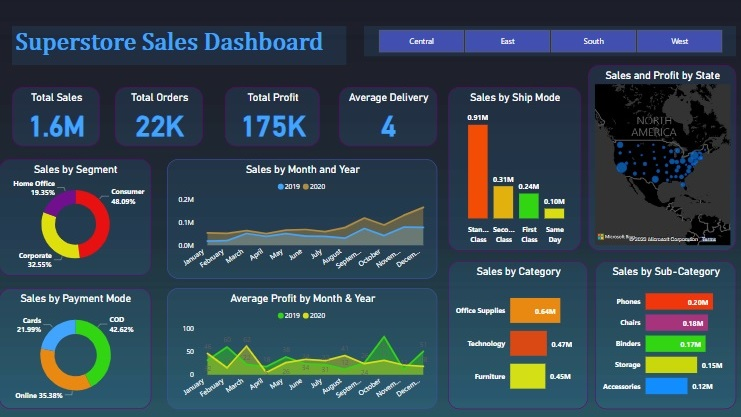

The dashboard page shown, as its layout file describes it:
{"tool":"powerbi","page":{"name":"Page 1","canvas":[1280,720],"ordinal":0},"visuals":[{"type":"areaChart","title":"Sales by Month and Year","fields":{"Category":["Sheet1.Order Date.Variation.Date Hierarchy.Month"],"Y":["Sum(Sheet1.Sales)"],"Series":["Sheet1.Order Date.Variation.Date Hierarchy.Year"]},"box":[275.8,252.3,489.5,213.6],"z":0},{"type":"areaChart","title":"Average Profit  by Month and Year","fields":{"Category":["Sheet1.Order Date.Variation.Date Hierarchy.Month"],"Series":["Sheet1.Order Date.Variation.Date Hierarchy.Year"],"Y":["Avg(Sheet1.Profit)"]},"box":[275.8,494.5,489.5,210.2],"z":1000},{"type":"card","title":"Average Delivery","fields":{"Values":["Avg(Sheet1.Avg_Delivery)"]},"box":[571.9,111,180,100.9],"z":2000},{"type":"clusteredBarChart","title":"Sales by Category","fields":{"Y":["Sum(Sheet1.Sales)"],"Category":["Sheet1.Category"]},"box":[777.1,465.9,238.8,238.8],"z":3000},{"type":"clusteredBarChart","title":"Sales by Sub-Category","fields":{"Y":["Sum(Sheet1.Sales)"],"Category":["Sheet1.Sub-Category"]},"box":[1027.7,465.9,243.9,233.8],"z":4000},{"type":"clusteredColumnChart","title":"Sales by Ship Mode","fields":{"Category":["Sheet1.Ship Mode"],"Y":["Sum(Sheet1.Sales)"]},"box":[777.1,111,222,334.7],"z":5000},{"type":"map","title":"Sales and Profit by State","fields":{"Category":["Sheet1.State"],"Size":["Sum(Sheet1.Sales)"]},"box":[1015.9,89.1,255.7,368.4],"z":6000},{"type":"donutChart","title":"Sales by Segment","fields":{"Category":["Sheet1.Segment"],"Y":["Sum(Sheet1.Sales)"]},"box":[0,252.3,264.1,213.6],"z":7000},{"type":"donutChart","title":"Sales by Payment Mode","fields":{"Category":["Sheet1.Payment Mode"],"Y":["Sum(Sheet1.Sales)"]},"box":[0,494.5,264.1,210.2],"z":8000},{"type":"card","title":"Total Profit","fields":{"Values":["Sum(Sheet1.Profit)"]},"box":[378.4,111,176.6,100.9],"z":9000},{"type":"card","title":"Total Orders","fields":{"Values":["Sum(Sheet1.Quantity)"]},"box":[191.7,111,166.5,100.9],"z":10000},{"type":"card","title":"Total Sales","fields":{"Values":["Sum(Sheet1.Sales)"]},"box":[18.5,111,164.8,100.9],"z":11000},{"type":"textbox","box":[18.5,20.2,622.3,77.4],"z":12000},{"type":"slicer","fields":{"Values":["Sheet1.Region"]},"box":[615.6,20.2,664.4,69],"z":13000}]}

Visuals, with their boxes in screenshot pixels (x1, y1, x2, y2), scaled from the page's 1280x720 canvas onto the 741x417 screenshot:
"Sales by Month and Year" areaChart: 160 146 443 270
"Average Profit  by Month and Year" areaChart: 160 286 443 408
"Average Delivery" card: 331 64 435 123
"Sales by Category" clusteredBarChart: 450 270 588 408
"Sales by Sub-Category" clusteredBarChart: 595 270 736 405
"Sales by Ship Mode" clusteredColumnChart: 450 64 578 258
"Sales and Profit by State" map: 588 52 736 265
"Sales by Segment" donutChart: 0 146 153 270
"Sales by Payment Mode" donutChart: 0 286 153 408
"Total Profit" card: 219 64 321 123
"Total Orders" card: 111 64 207 123
"Total Sales" card: 11 64 106 123
textbox: 11 12 371 57
slicer - Sheet1.Region: 356 12 740 52
